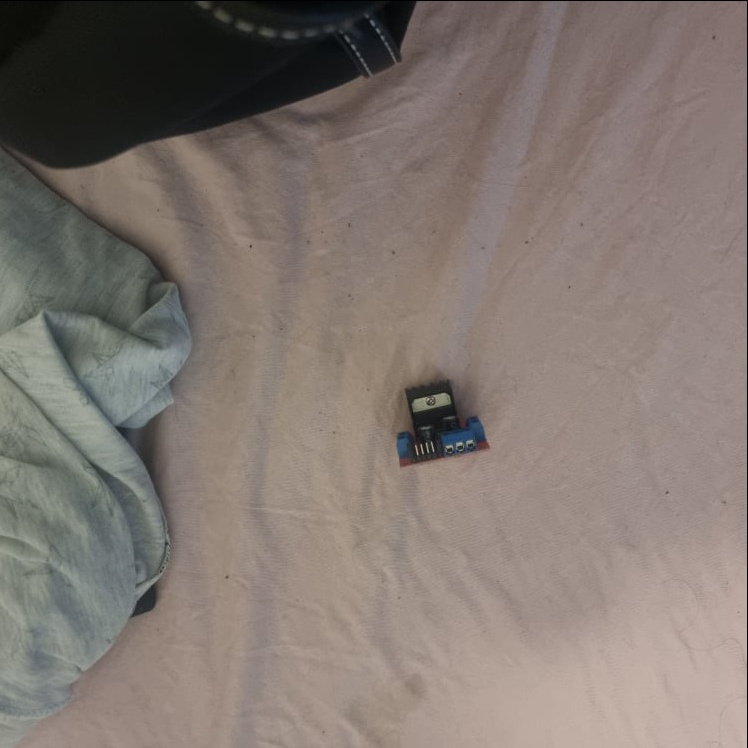MOTOR: (390, 378, 492, 471)
